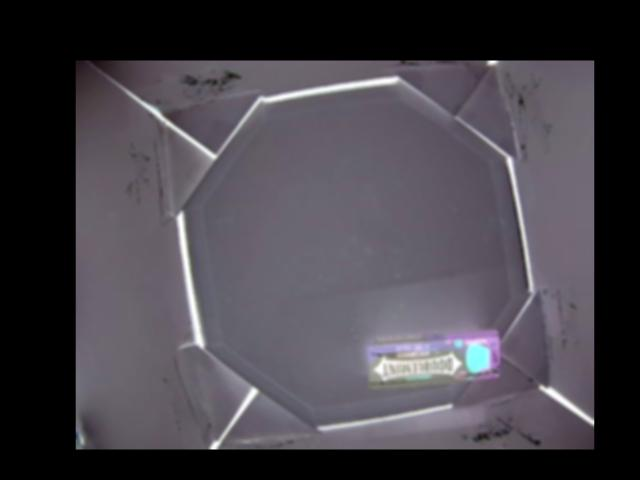Bottle: (367, 327, 503, 384)
